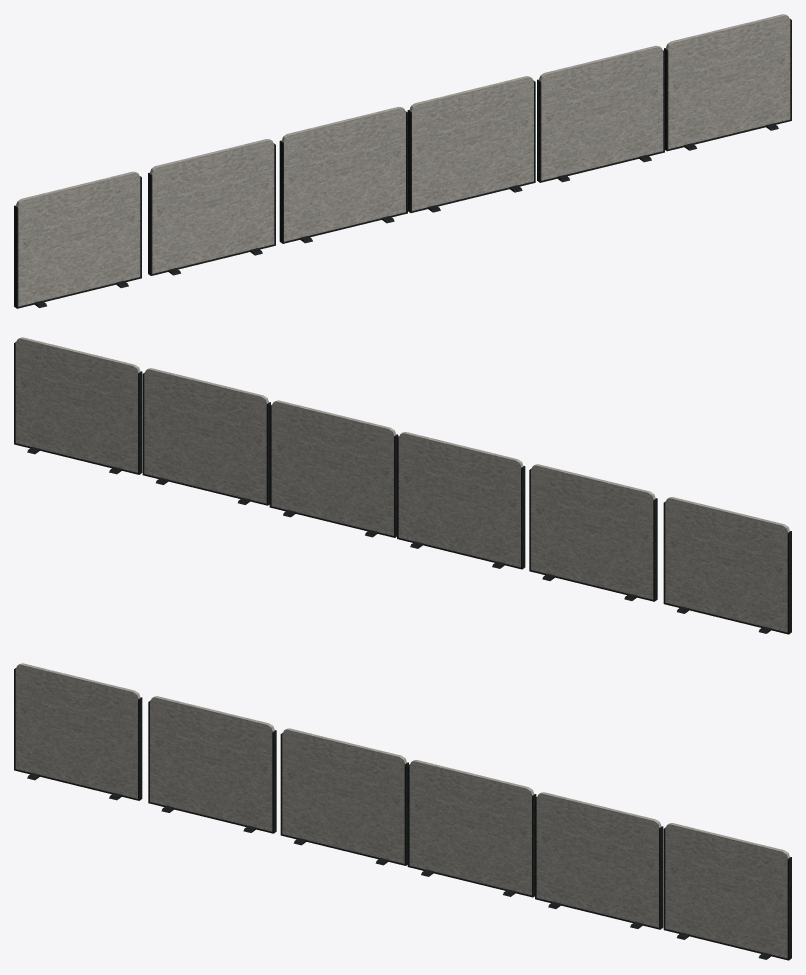
Rendered from divider_black.fbx.
3 renders of one model, top to bottom at view 1: azimuth 30°, elevation 25°; view 2: azimuth 150°, elevation 25°; view 3: azimuth 330°, elevation 25°, orthographic.
Visible parts, largest first — view 1: divider_black15; view 2: divider_black15; view 3: divider_black15.
Boxes of the visible parts, x1=… form: divider_black15: x1=14, y1=14, x2=791, y2=308; divider_black15: x1=14, y1=337, x2=791, y2=634; divider_black15: x1=14, y1=663, x2=791, y2=960.
Size of the model in its own units: 1895 by 250 by 59.74.
